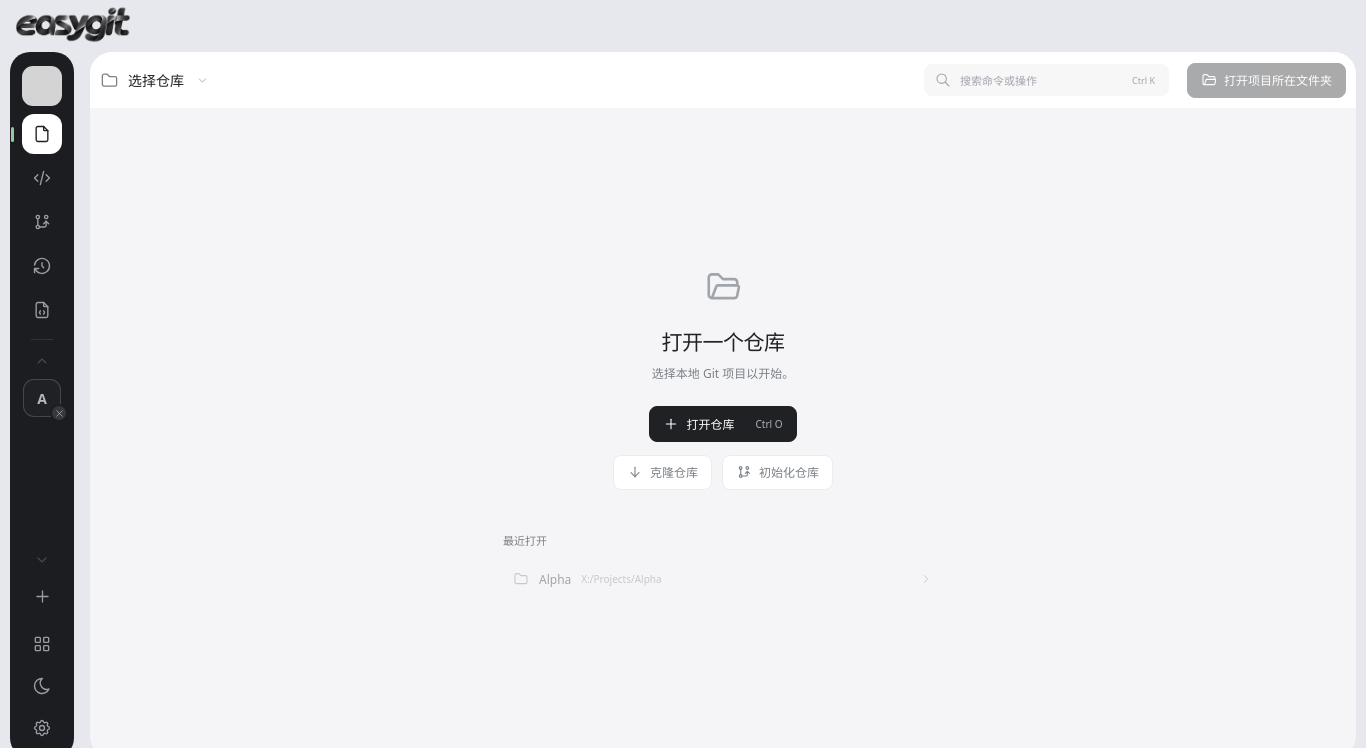
差异页文件操作 › 普通视图将文件与导航合并到分区右侧，直接展示差异并去掉冗余操作行
Click the button "A" at x=42, y=398, box [23,379,61,417]
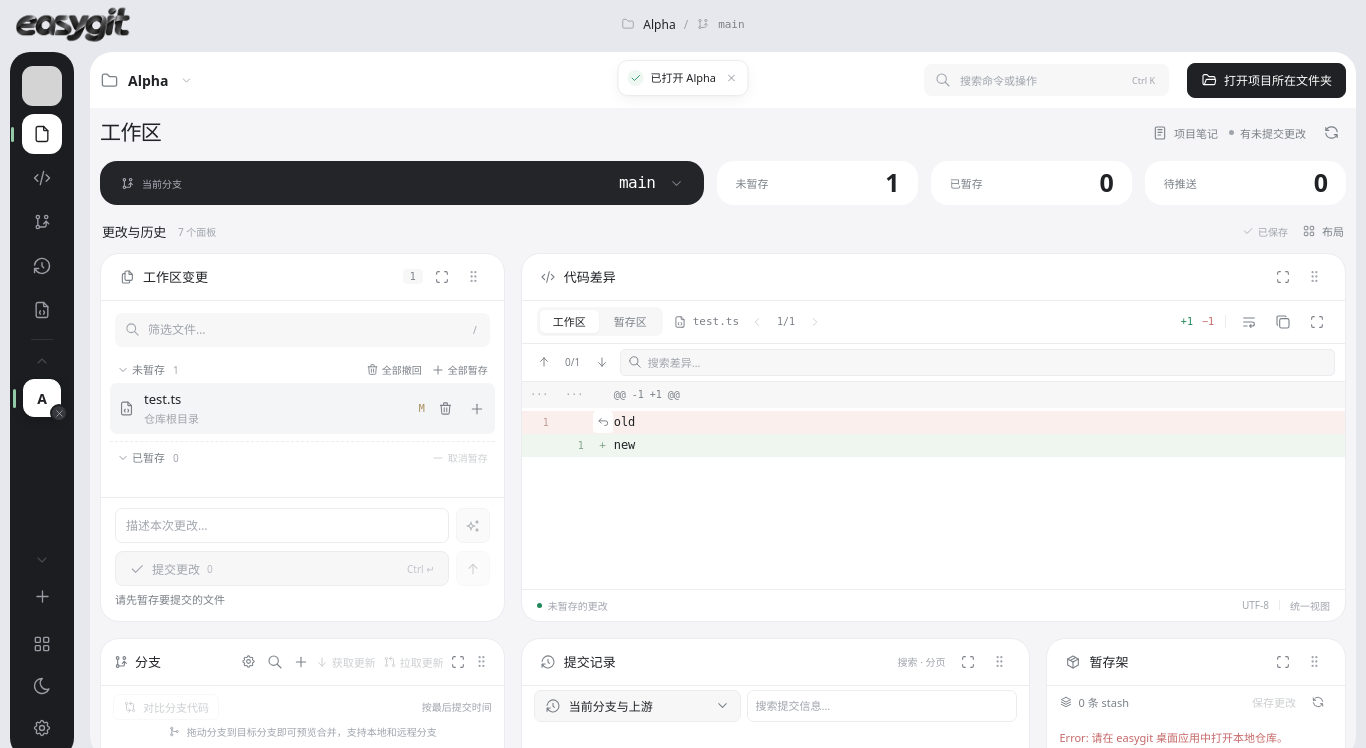
Expected: the element with class "segmented" is shown, [537,307,663,336]
Expected: the element with class "diff-file-path" shows "test.ts", [693,315,739,328]
Expected: the element named "差异文件导航" is shown, [745,309,827,334]
